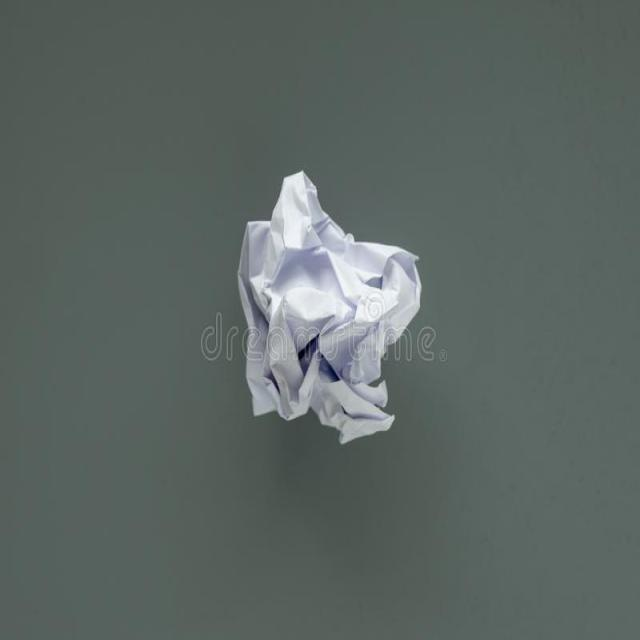Paper: (237, 161, 423, 447)
